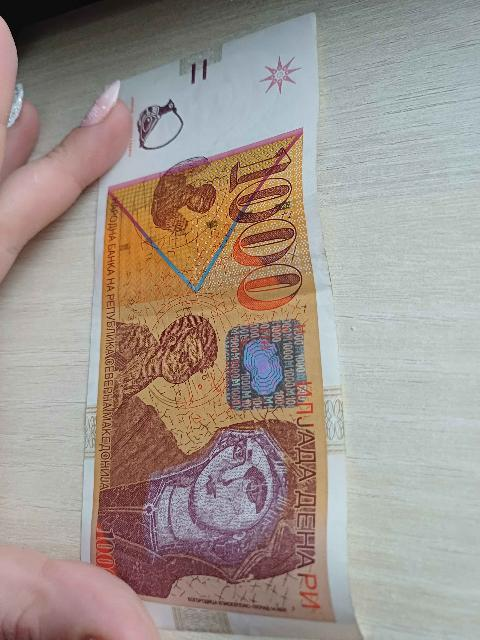note: (81, 12, 363, 639)
